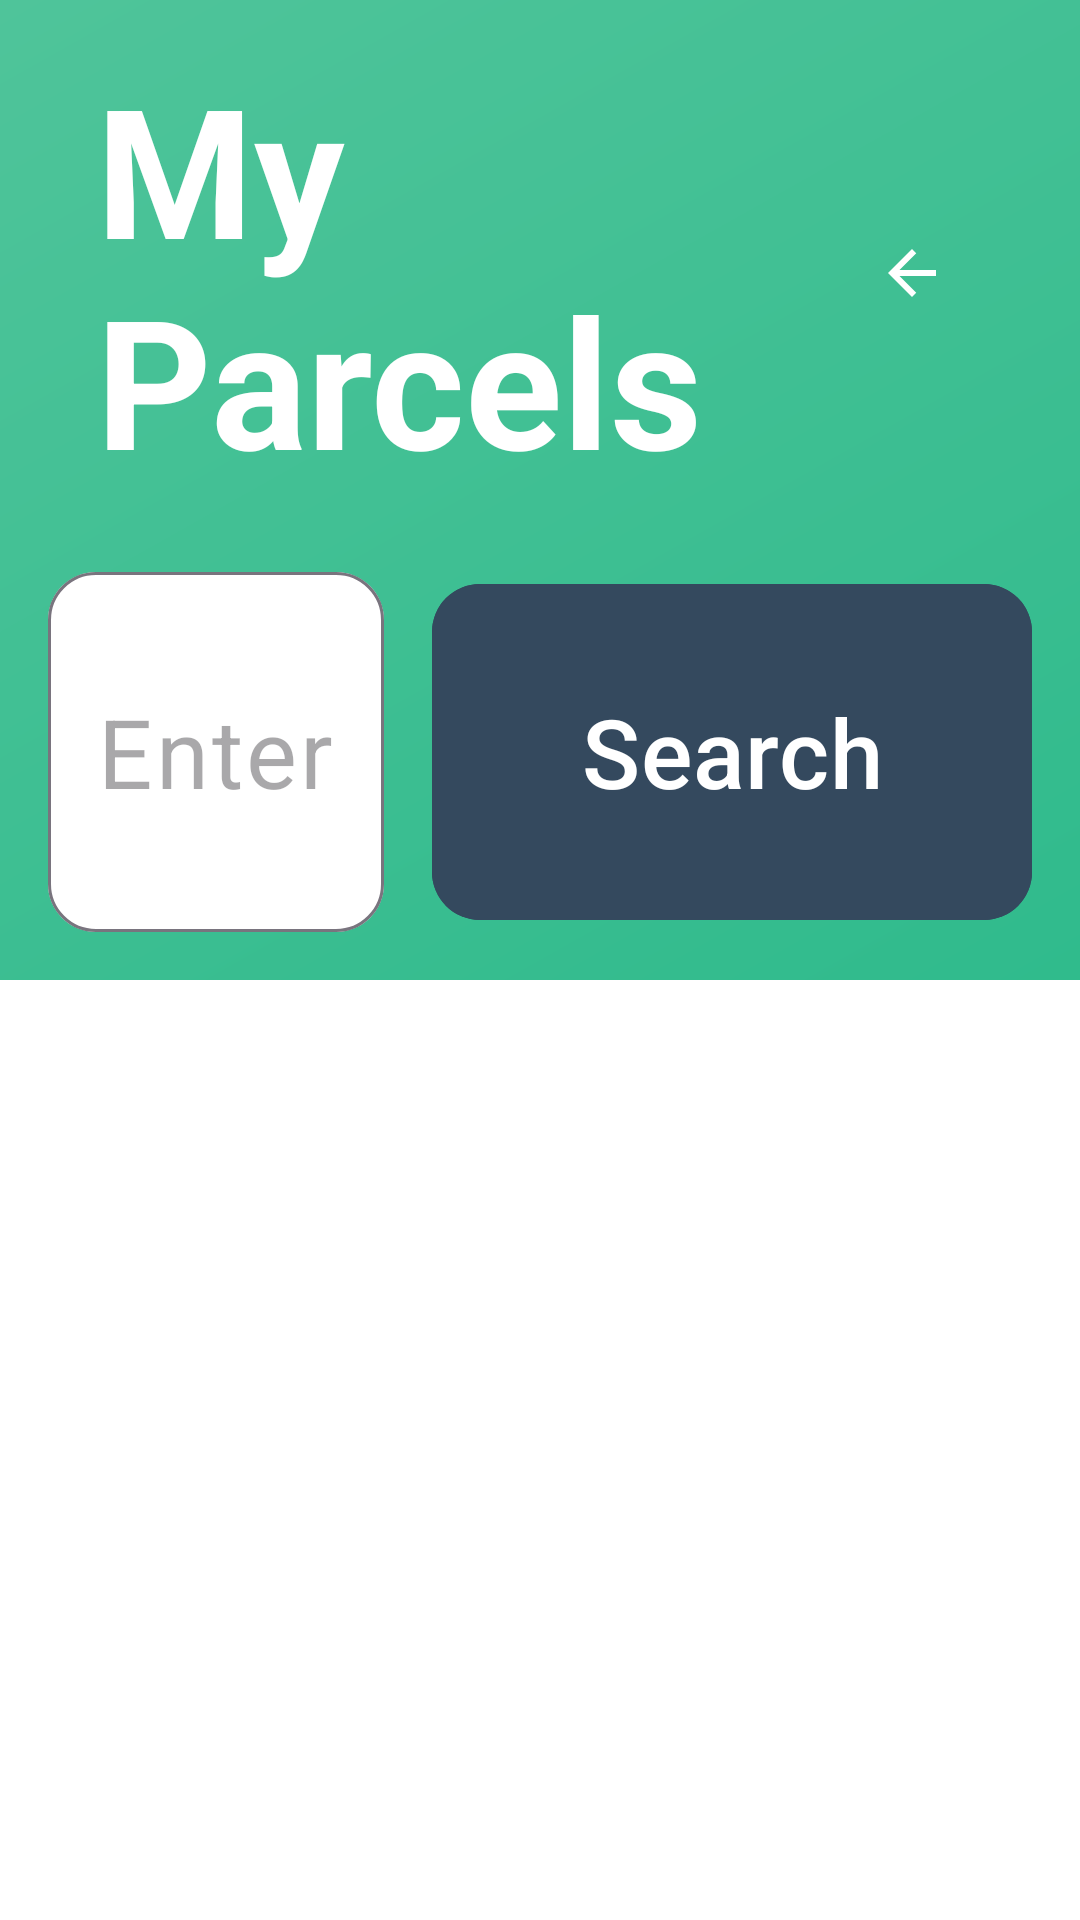

Icons on this 1080×1920 Android screen, each with the point to tap as (x=x, y=y):
Back: (x=912, y=273)
